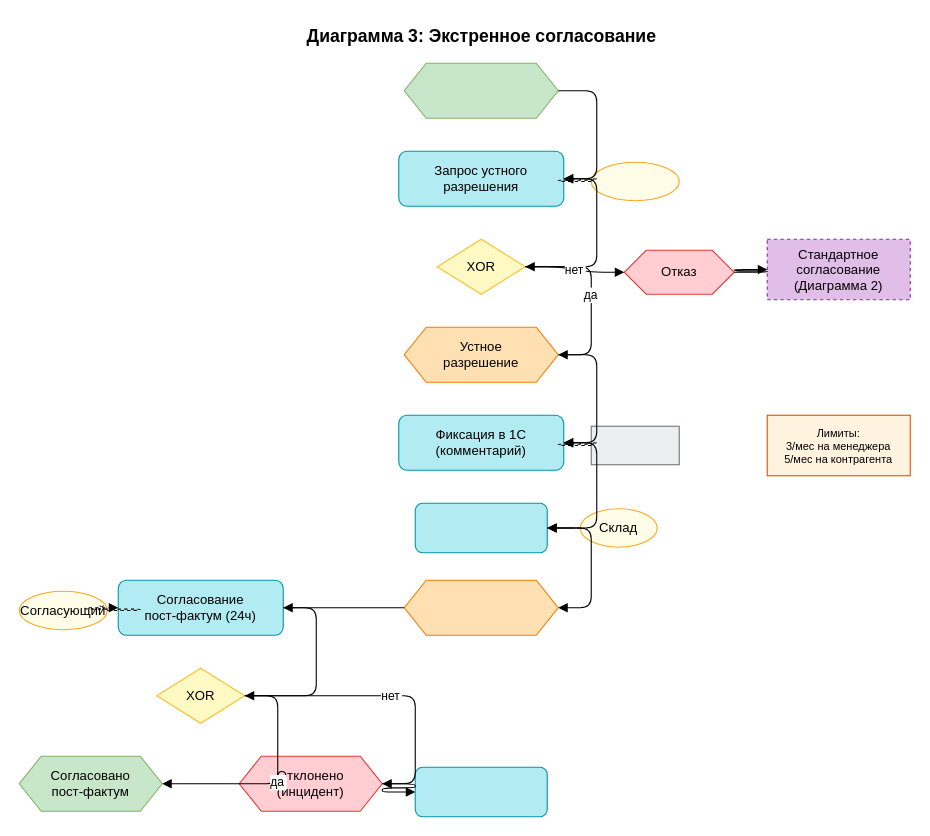
The diagram is 930 pixels wide and 836 high, and some of its shapes have lost their labels. Each missing label, with the box of its shape:
1С:УТ: (590, 425, 679, 465)
Менеджер: (590, 161, 679, 201)
Отгрузка товара: (414, 502, 547, 553)
Регистрация инцидента: (414, 766, 547, 817)
Срочная отгрузка: (403, 62, 558, 118)
Товар отгружен: (403, 579, 558, 635)
